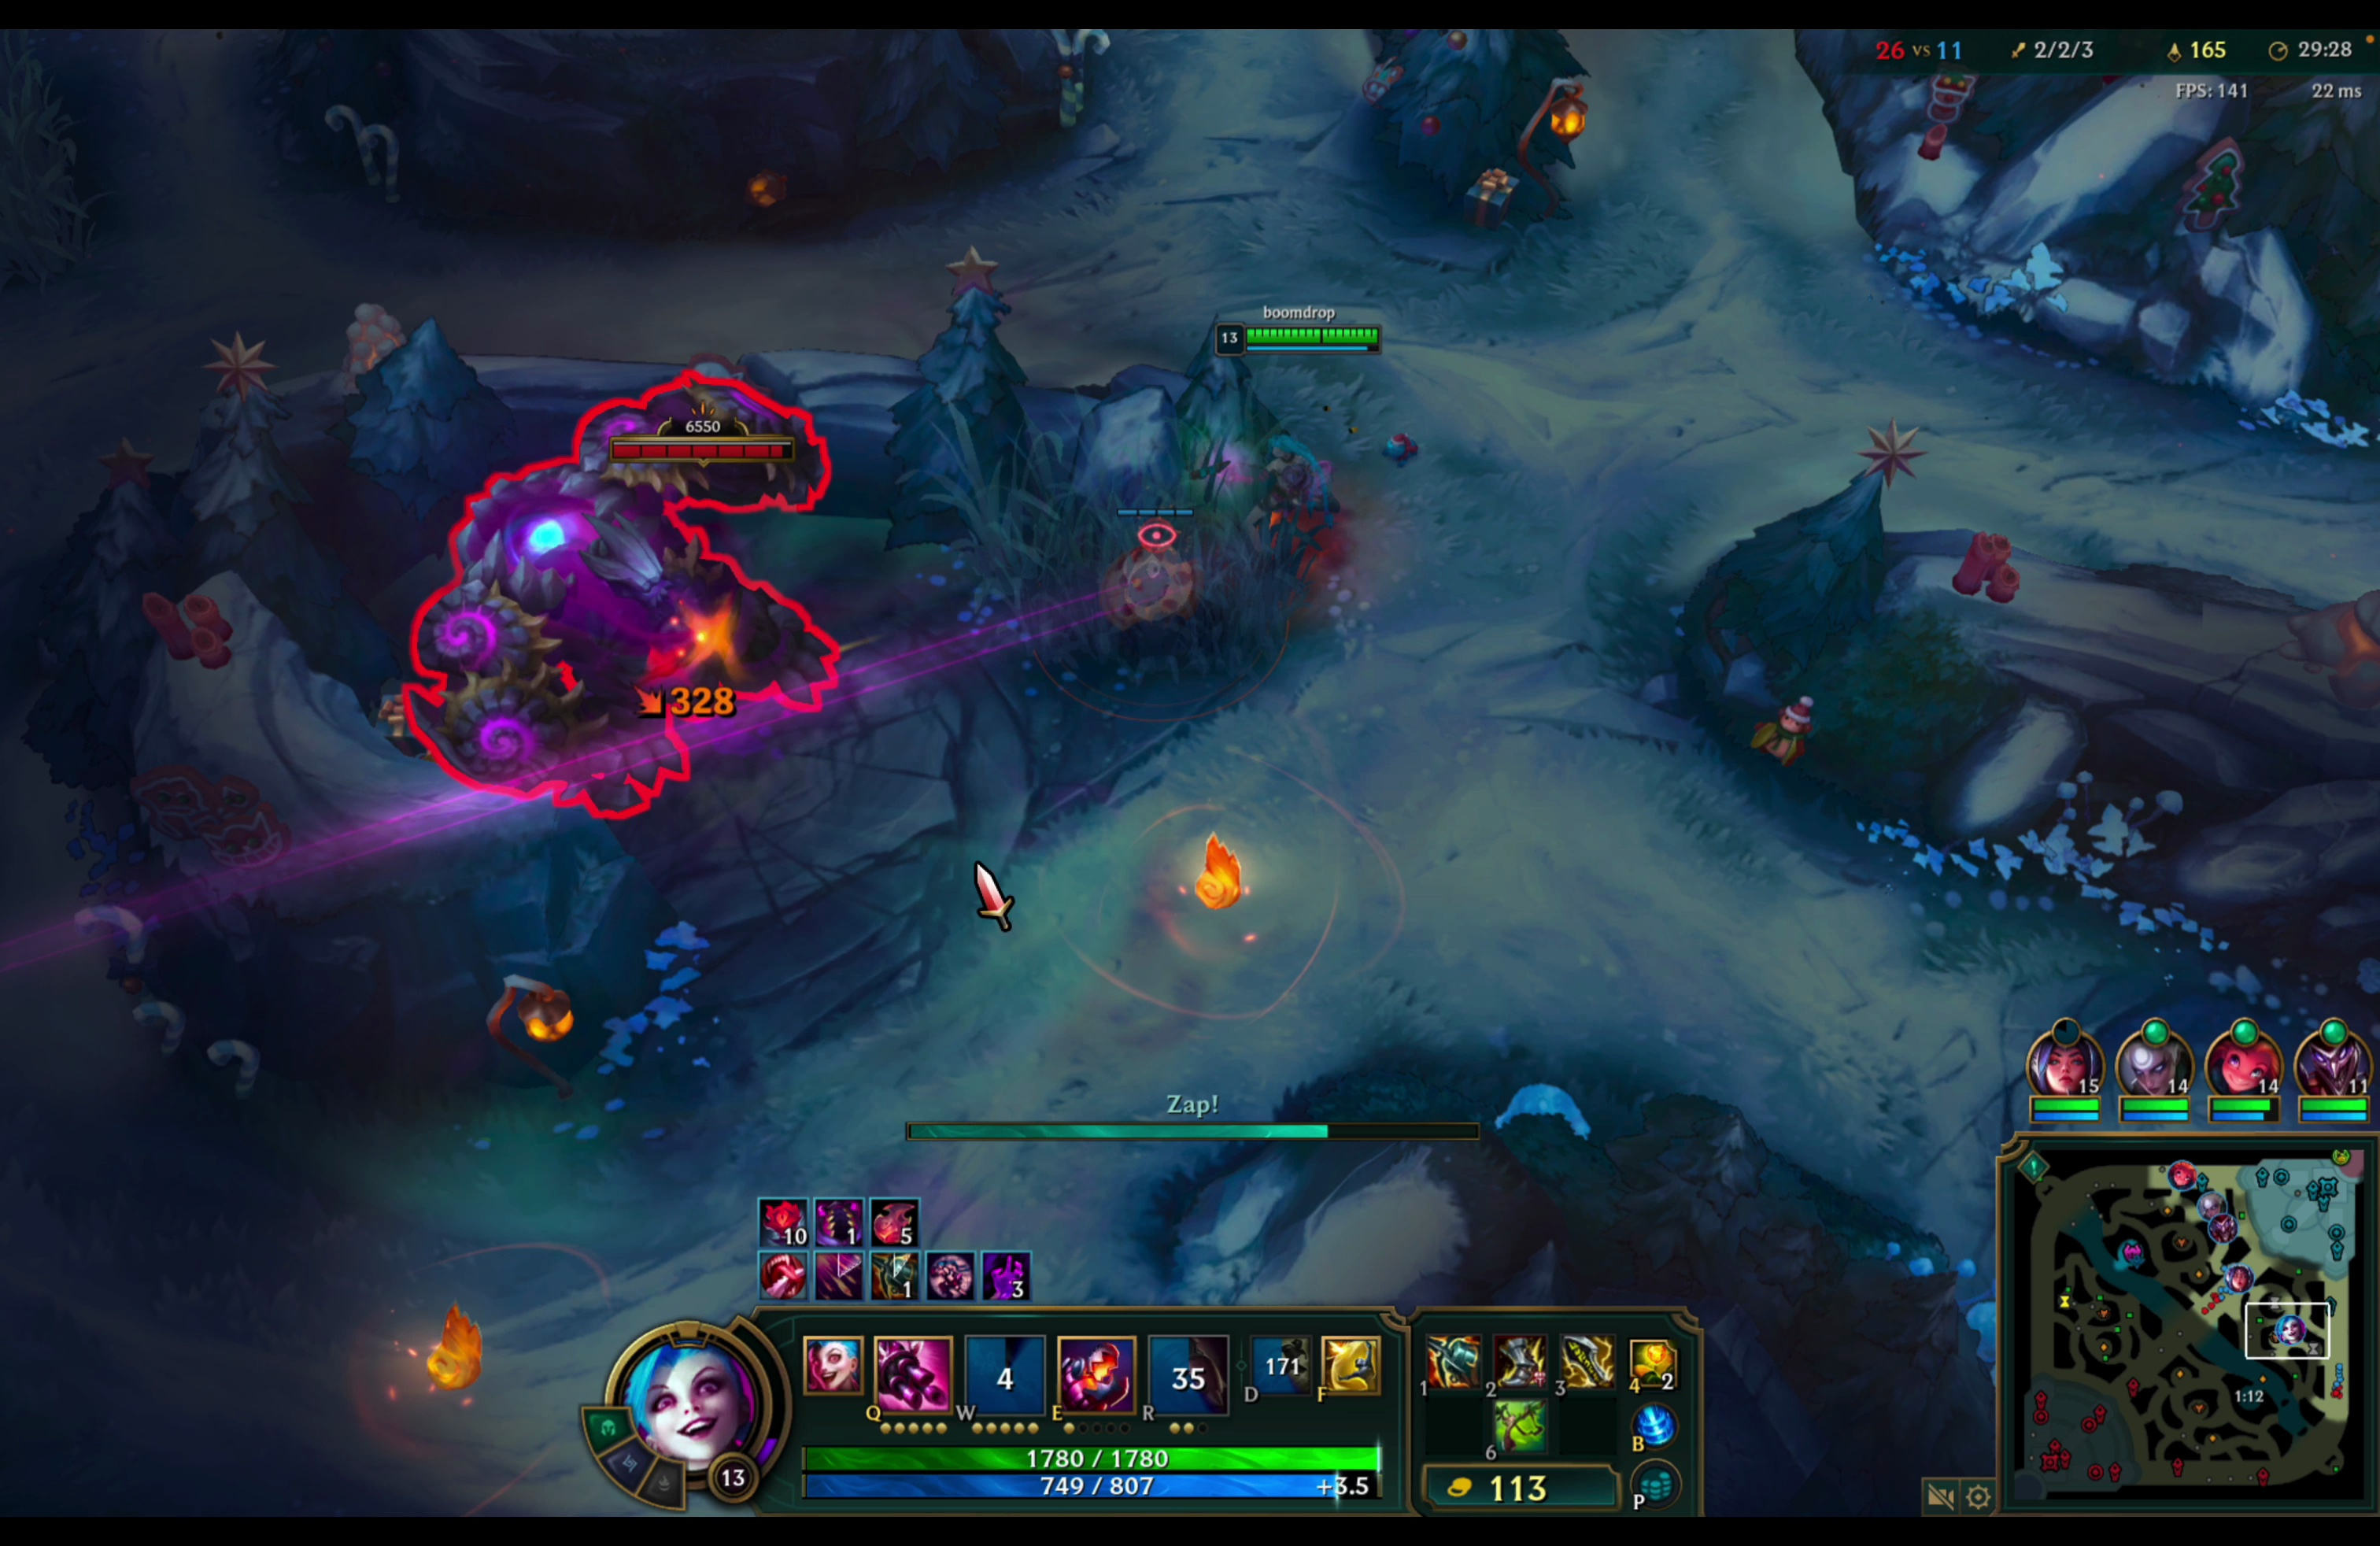JINX_W_PROJECTILE: (1207, 298, 1402, 595)
